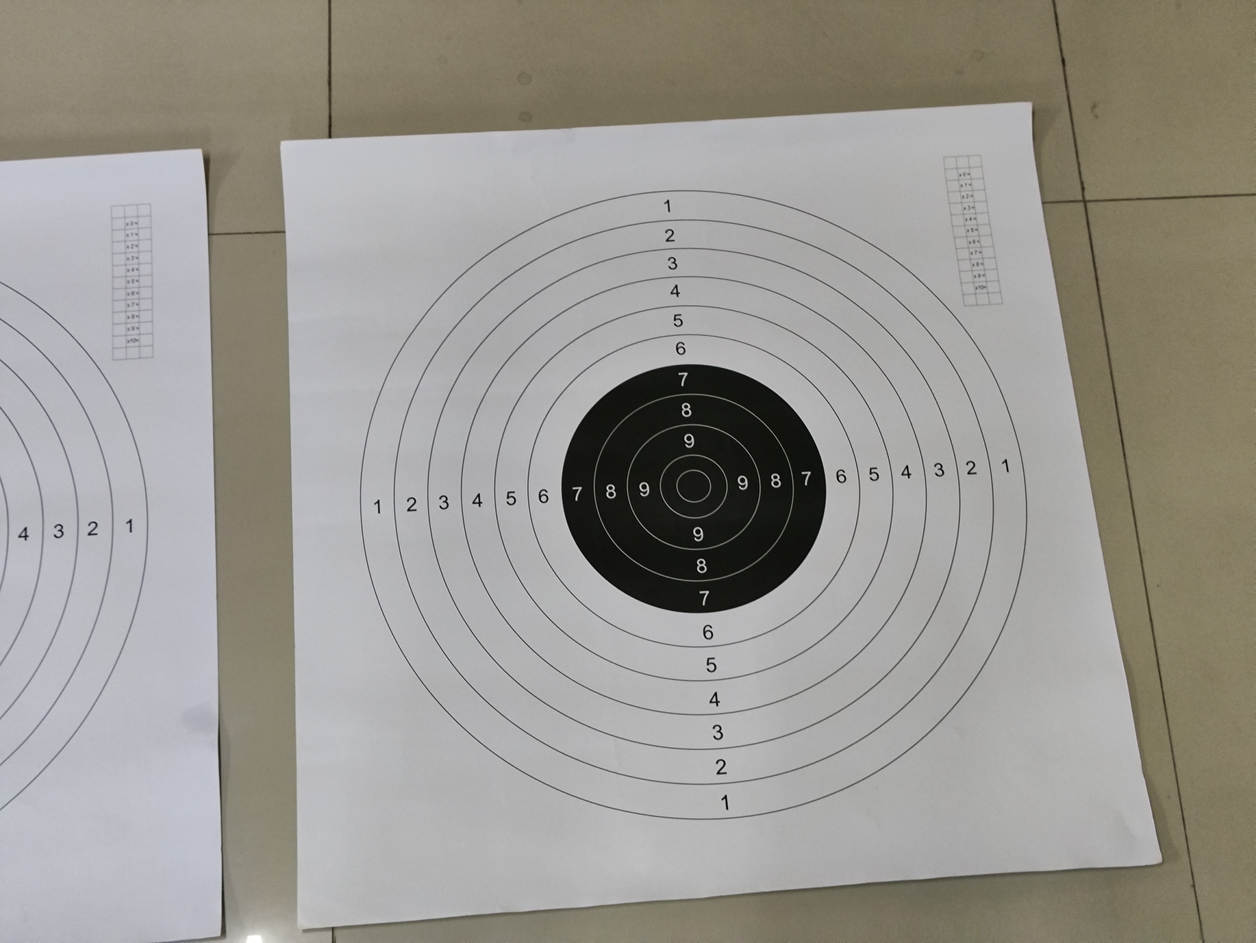target: (331, 152, 1057, 850)
